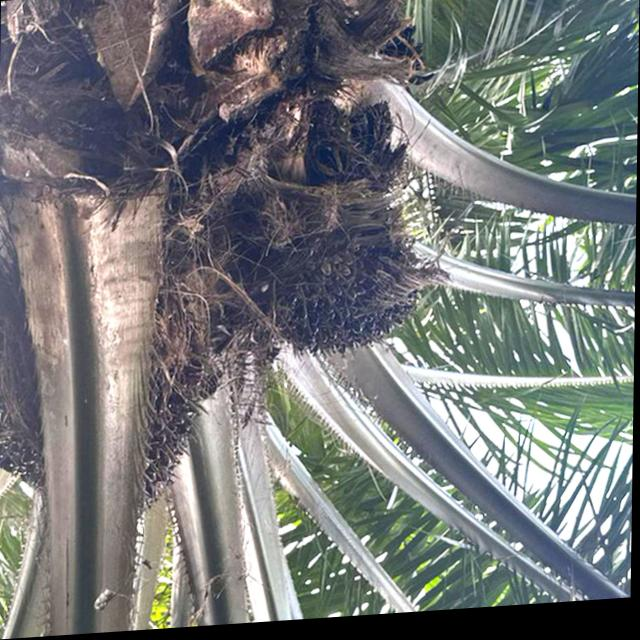unripe: (0, 300, 216, 540), (247, 239, 422, 373)
